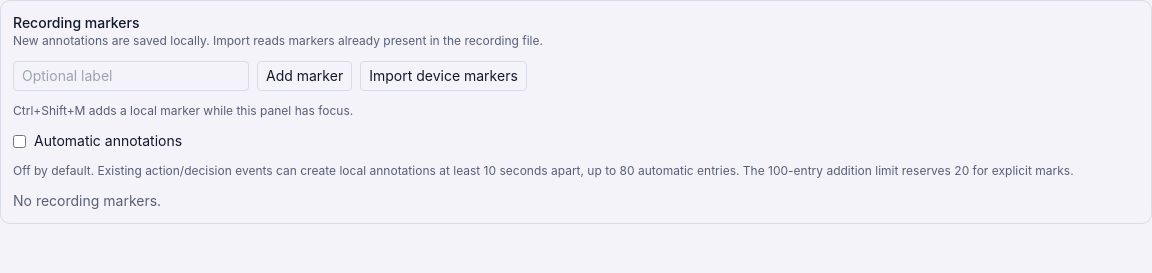
Scenario: DeviceRecordingMarkers › adds a local annotation at the playhead with optional label
Type "Follow up" into the field named "Marker label" at (131, 76), box [13,61,249,91]
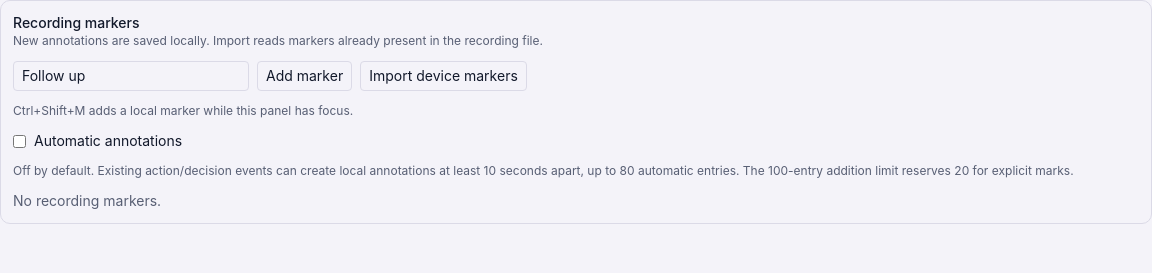
Click the button "Add marker" at (305, 76), box [257,61,352,91]
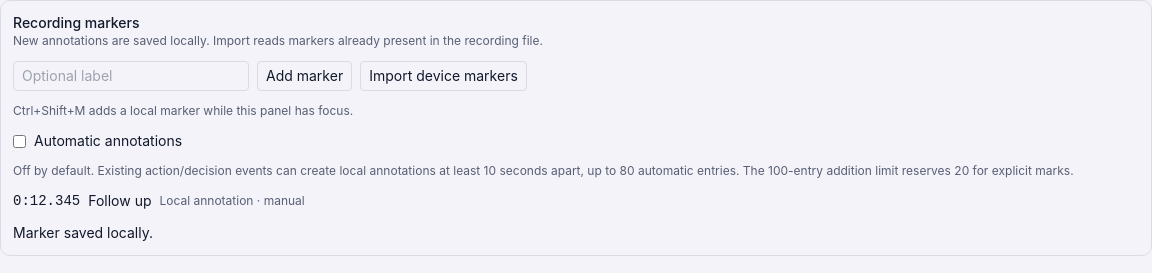
Now the text "Marker saved locally." is shown, box [13,224,153,241]
Now the text "0:12.345" is shown, box [13,191,80,211]
